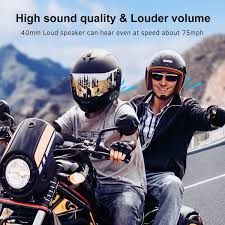com_capacete: (69, 50, 123, 115), (144, 50, 187, 101)
